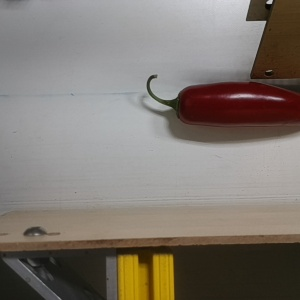Cut Point: (166, 85, 195, 127)
